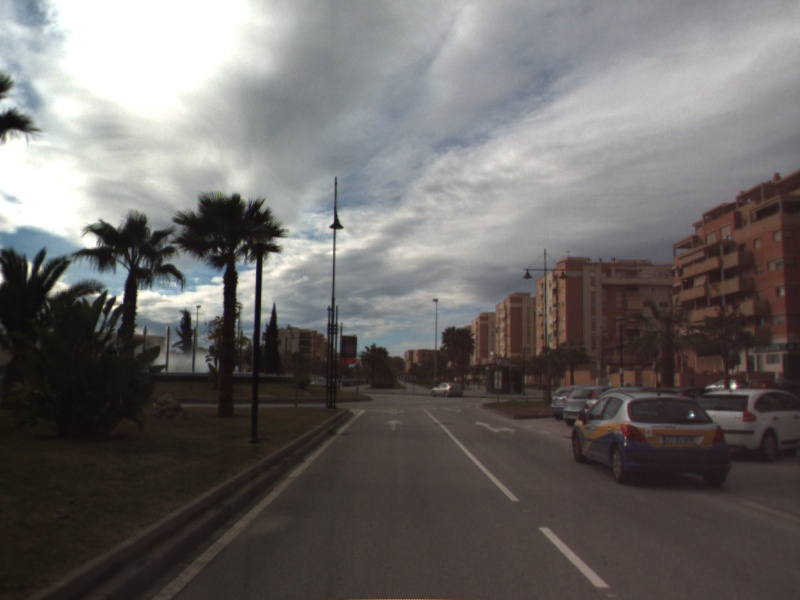STRAIGHT: (384, 417, 404, 432)
STRAIGHT_RIGHT: (473, 419, 517, 435)
